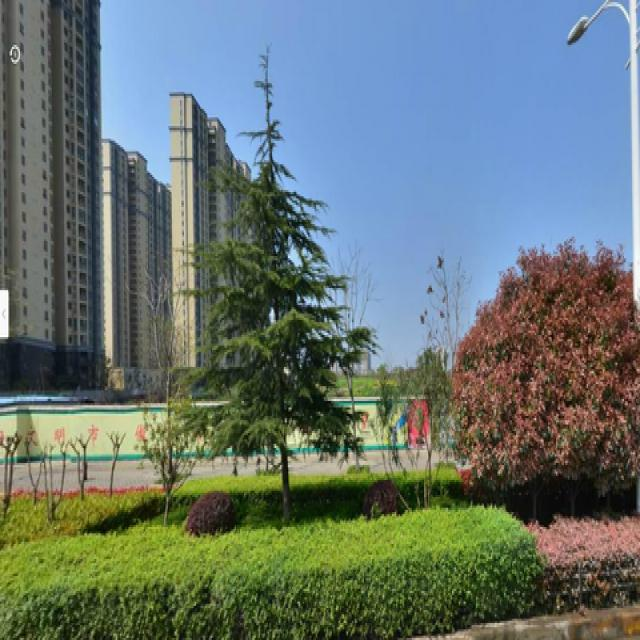cedr: (196, 36, 371, 514)
